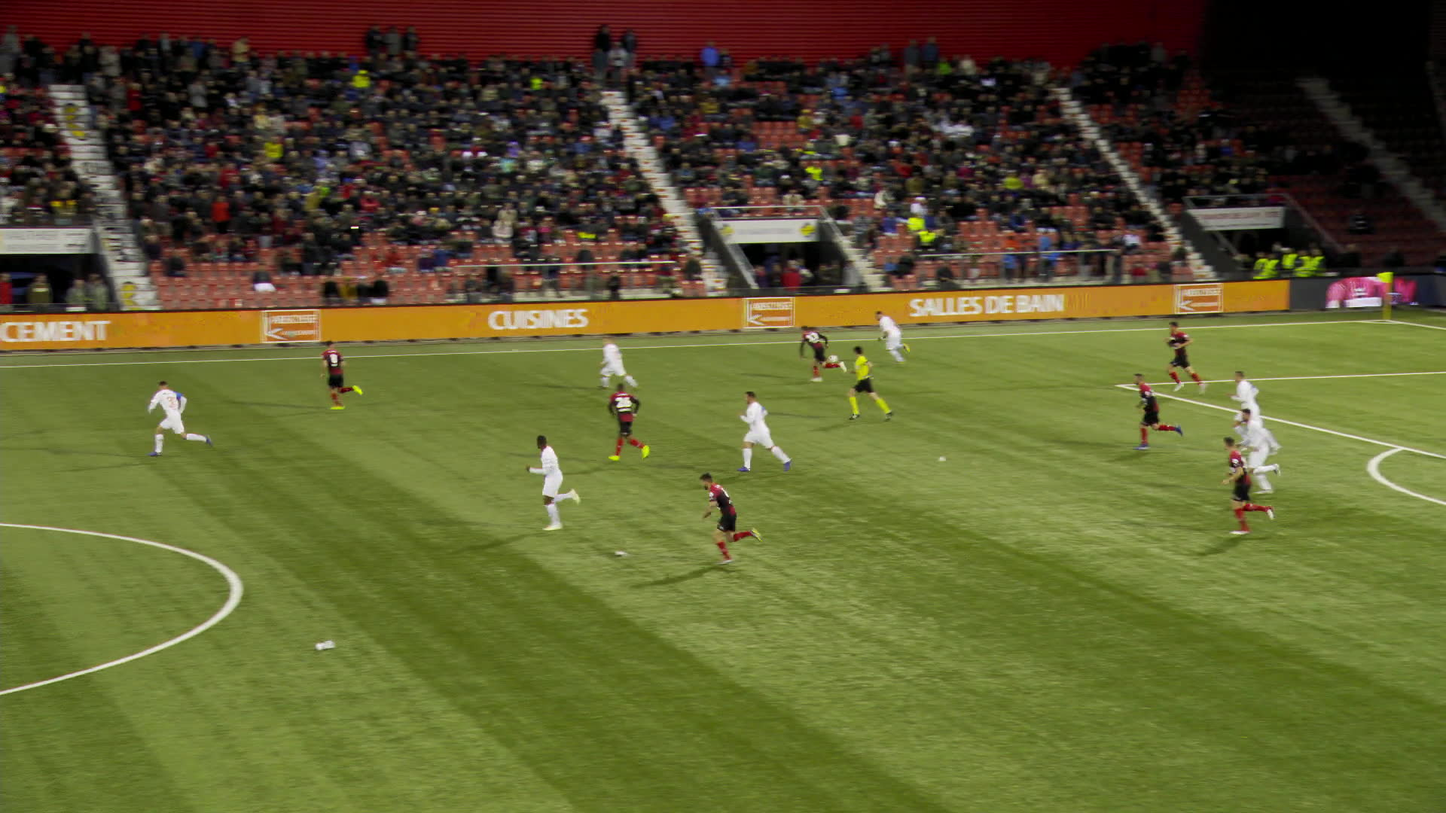ball: (822, 355, 831, 362)
player: (696, 471, 765, 565), (527, 434, 587, 530), (1214, 434, 1271, 534), (142, 380, 206, 455), (1123, 371, 1178, 449), (1231, 407, 1280, 493), (731, 391, 781, 474), (599, 382, 642, 464), (313, 339, 361, 409), (1156, 321, 1197, 396), (791, 325, 842, 379), (1219, 371, 1253, 446), (587, 334, 626, 391), (868, 309, 908, 364)
referee: (840, 346, 882, 420)
